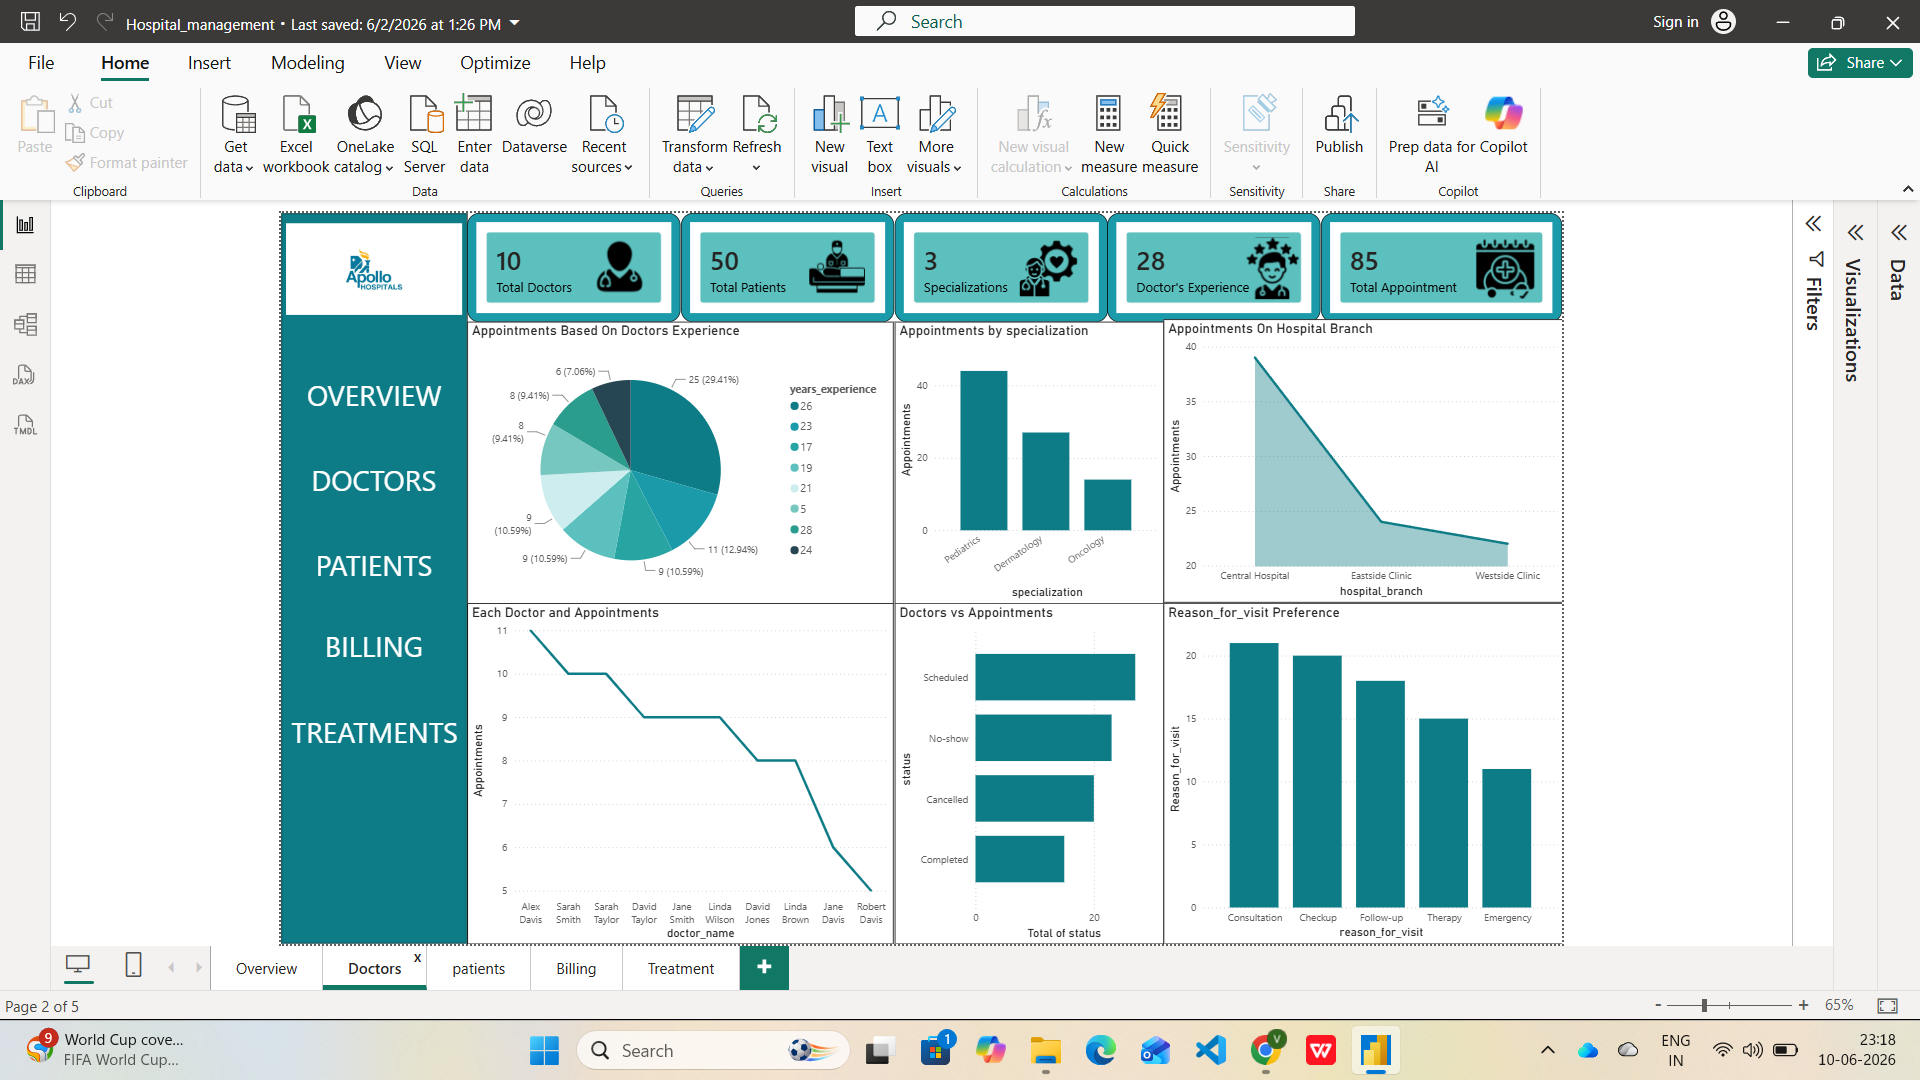

What the dashboard file says about the page in this screenshot:
{"tool":"powerbi","page":{"name":"Doctors","canvas":[1577,900],"ordinal":1},"visuals":[{"type":"lineChart","title":"Each Doctor and Appointments","fields":{"Category":["hosp doctors.doctor_name"],"Y":["CountNonNull(hosp appointments.appointment_id)"]},"box":[229.7,479.7,525,420.3],"z":0},{"type":"shape","box":[0,0,229.7,900],"z":1000},{"type":"actionButton","box":[0,195.3,229.7,51.6],"z":2000},{"type":"actionButton","box":[0,300,229,51],"z":3000},{"type":"actionButton","box":[0,405.1,229,51],"z":4000},{"type":"actionButton","box":[0,505.1,229,51],"z":5000},{"type":"actionButton","box":[0,610.2,230.5,52.5],"z":6000},{"type":"cardVisual","fields":{"Data":["Count(hosp doctors.doctor_id)"]},"box":[229.7,0,262.5,134.4],"z":7000},{"type":"image","box":[6.8,5.1,216.9,128.8],"z":8000},{"type":"cardVisual","fields":{"Data":["CountNonNull(hosp patients.patient_id)"]},"box":[492.2,0,262.5,134.4],"z":9000},{"type":"cardVisual","fields":{"Data":["Count(hosp doctors.specialization)"]},"box":[754.7,0,262.5,134.4],"z":10000},{"type":"cardVisual","fields":{"Data":["Max(hosp doctors.years_experience)"]},"box":[1017.2,0,262.5,134.4],"z":11000},{"type":"cardVisual","fields":{"Data":["Count(hosp appointments.appointment_id)"]},"box":[1279.7,0,296.9,134.4],"z":12000},{"type":"pieChart","title":"Appointments Based On Doctors Experience","fields":{"Category":["hosp doctors.years_experience"],"Y":["CountNonNull(hosp appointments.appointment_id)"]},"box":[229.7,134.4,525,346.9],"z":13000},{"type":"columnChart","fields":{"Y":["CountNonNull(hosp appointments.appointment_id)"],"Category":["hosp doctors.specialization"]},"box":[754.7,134.4,331.2,346.9],"z":14000},{"type":"clusteredBarChart","title":"Doctors vs Appointments ","fields":{"Category":["hosp appointments.status"],"Y":["CountNonNull(hosp appointments.status)"]},"box":[754.7,479.7,331.2,420.3],"z":15000},{"type":"areaChart","title":"Appointments On Hospital Branch","fields":{"Category":["hosp doctors.hospital_branch"],"Y":["CountNonNull(hosp appointments.appointment_id)"]},"box":[1085.9,131.2,492.2,348.4],"z":16000},{"type":"lineStackedColumnComboChart","title":" Reason_for_visit Preference","fields":{"Category":["hosp appointments.reason_for_visit"],"Y":["CountNonNull(hosp appointments.reason_for_visit)"]},"box":[1085.9,479.7,492.2,420],"z":17000},{"type":"actionButton","box":[646.9,28.1,98.4,76.6],"z":18000},{"type":"actionButton","box":[378.1,28.1,98.4,76.6],"z":19000},{"type":"actionButton","box":[1464.1,25,84.4,87.5],"z":20000},{"type":"actionButton","box":[903.1,25,82.8,87.5],"z":21000},{"type":"actionButton","box":[1178.1,25,84.4,87.5],"z":22000}]}

Visuals, with their boxes on the page's 1577x900 design canvas (x1, y1, x2, y2). These are canvas units, not pixel positions in the 1920x1080 screenshot, which may show the page scaled, cropped or inside an application window:
"Each Doctor and Appointments" lineChart: <bbox>230, 480, 755, 900</bbox>
shape: <bbox>0, 0, 230, 900</bbox>
actionButton: <bbox>0, 195, 230, 247</bbox>
actionButton: <bbox>0, 300, 229, 351</bbox>
actionButton: <bbox>0, 405, 229, 456</bbox>
actionButton: <bbox>0, 505, 229, 556</bbox>
actionButton: <bbox>0, 610, 230, 663</bbox>
cardVisual - Count(hosp doctors.doctor_id): <bbox>230, 0, 492, 134</bbox>
image: <bbox>7, 5, 224, 134</bbox>
cardVisual - CountNonNull(hosp patients.patient_id): <bbox>492, 0, 755, 134</bbox>
cardVisual - Count(hosp doctors.specialization): <bbox>755, 0, 1017, 134</bbox>
cardVisual - Max(hosp doctors.years_experience): <bbox>1017, 0, 1280, 134</bbox>
cardVisual - Count(hosp appointments.appointment_id): <bbox>1280, 0, 1577, 134</bbox>
"Appointments Based On Doctors Experience" pieChart: <bbox>230, 134, 755, 481</bbox>
columnChart - CountNonNull(hosp appointments.appointment_id) x hosp doctors.specialization: <bbox>755, 134, 1086, 481</bbox>
"Doctors vs Appointments " clusteredBarChart: <bbox>755, 480, 1086, 900</bbox>
"Appointments On Hospital Branch" areaChart: <bbox>1086, 131, 1578, 480</bbox>
" Reason_for_visit Preference" lineStackedColumnComboChart: <bbox>1086, 480, 1578, 900</bbox>
actionButton: <bbox>647, 28, 745, 105</bbox>
actionButton: <bbox>378, 28, 476, 105</bbox>
actionButton: <bbox>1464, 25, 1548, 112</bbox>
actionButton: <bbox>903, 25, 986, 112</bbox>
actionButton: <bbox>1178, 25, 1262, 112</bbox>
